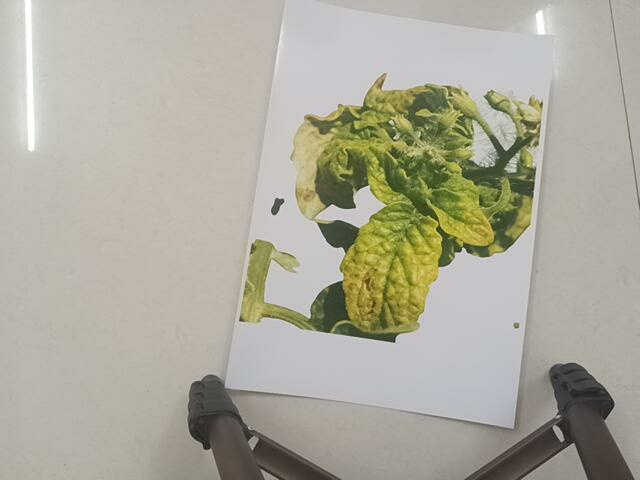Tomamto_Leaf_curl_virus: (246, 73, 555, 343)
